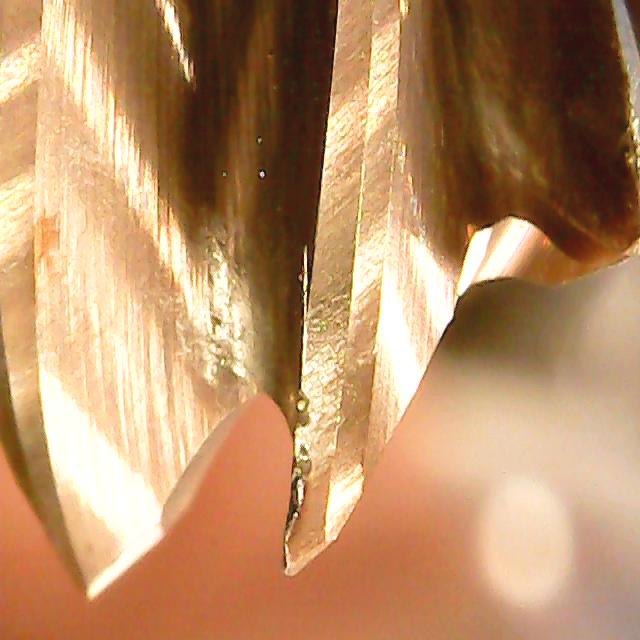Tool-wear-class-1: (275, 220, 403, 584)
